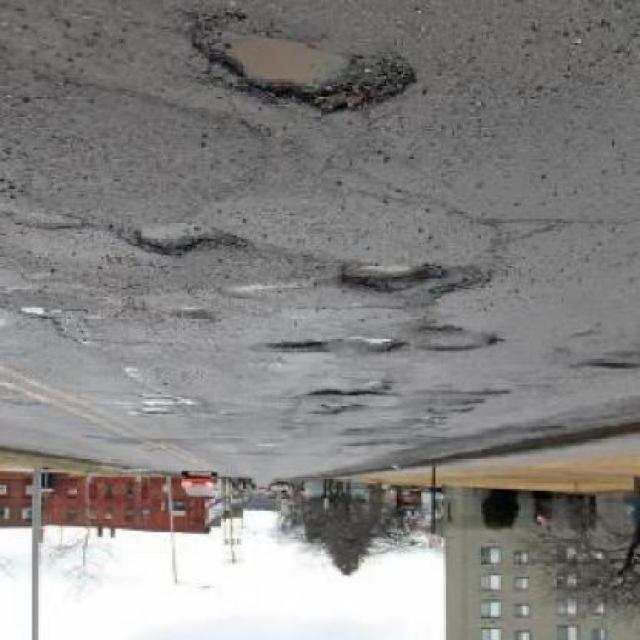pothole: (183, 29, 419, 120), (128, 222, 249, 260), (332, 260, 446, 298), (338, 335, 405, 356), (303, 388, 385, 402), (260, 342, 331, 358)
